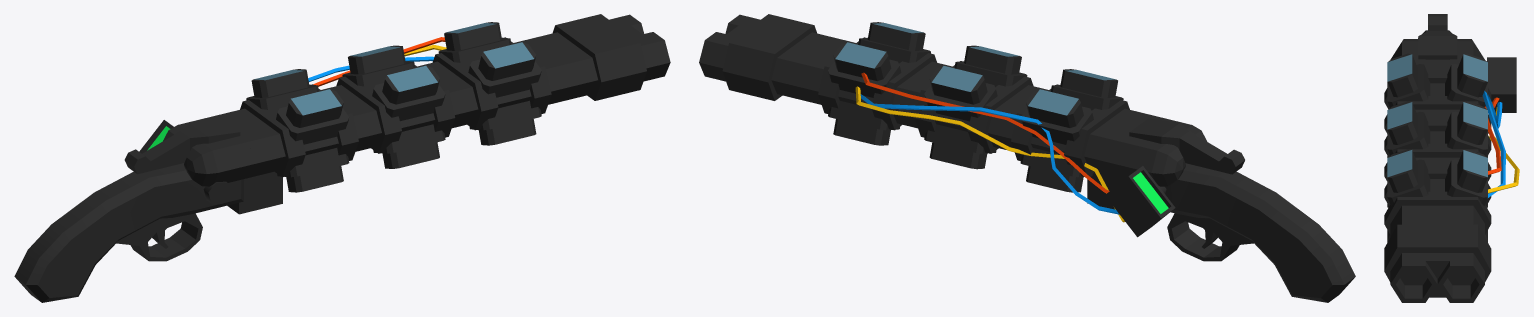
File: revolver.glb
The picture shows the model from 3 angles, left to right: view 1: azimuth 30°, elevation 25°; view 2: azimuth 150°, elevation 25°; view 3: azimuth 270°, elevation 25°; orthographic projection.
Parts seen in each view (by area): view 1: barrel, handle_black_0, wires, prop; view 2: barrel, handle_black_0, wires, prop; view 3: barrel, handle_black_0, prop, wires.
Part boxes in pixels (x1,y1,x2,y2): barrel: (214, 14, 670, 214); handle_black_0: (14, 116, 254, 302); wires: (308, 37, 446, 86); prop: (139, 120, 230, 203); barrel: (699, 14, 1155, 209); handle_black_0: (1115, 116, 1355, 302); wires: (855, 72, 1124, 222); prop: (1105, 166, 1175, 237); barrel: (1384, 53, 1491, 302); handle_black_0: (1390, 14, 1484, 59); prop: (1487, 57, 1516, 112); wires: (1482, 91, 1519, 197).
Size of the model in its own units: 75.44 by 17.57 by 13.87.
